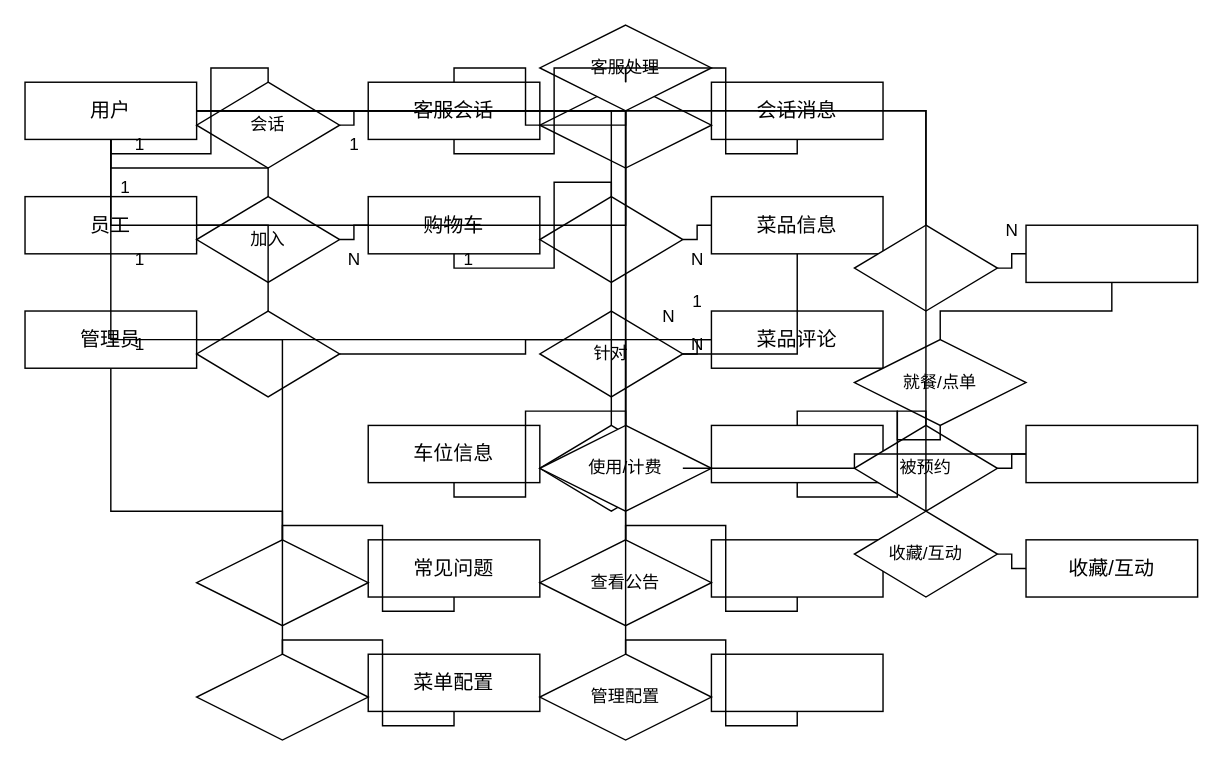
The diagram is 1223 pixels wide and 765 high, and some of its shapes have lost their labels. Here are the shapes that lost their labels. From the top down, the centre of each, then its label:
At point 624,124: "发送消息".
At point 610,238: "包含".
At point 1111,253: "订单".
At point 925,267: "下单".
At point 267,353: "评论".
At point 796,453: "餐桌信息".
At point 1111,453: "餐厅预约".
At point 281,582: "查看/搜索".
At point 796,567: "系统公告".
At point 281,696: "管理菜单".
At point 796,682: "配置项".
